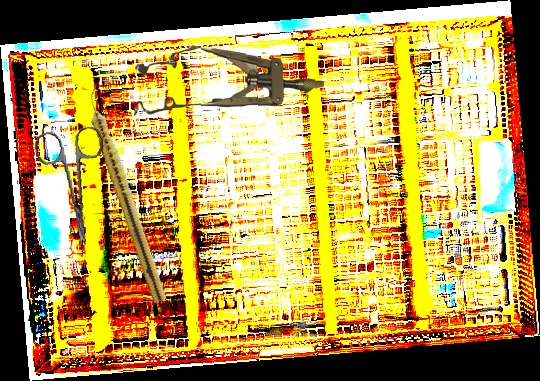Handpiece: (80, 84, 172, 305)
Iris Scissors: (32, 125, 116, 250)
Speculum: (134, 45, 325, 120)
